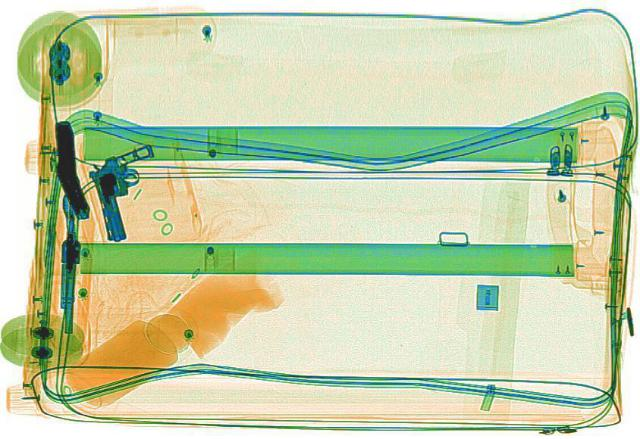Gun: (76, 141, 180, 242), (37, 114, 94, 221), (56, 195, 80, 336)
